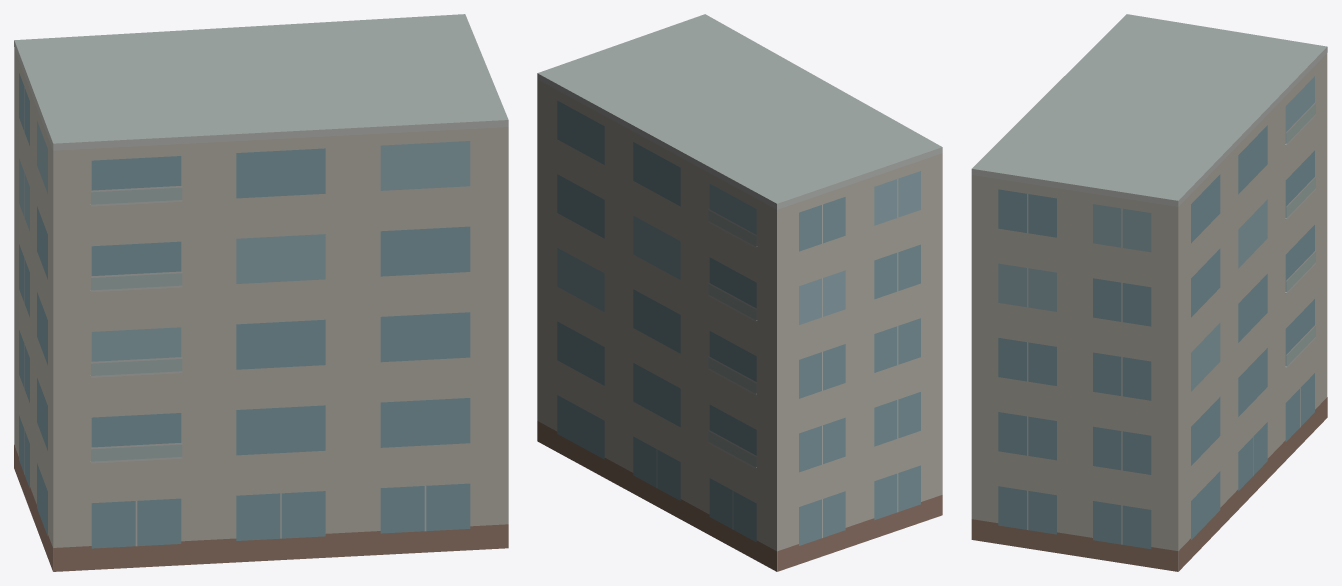
The model's file is survey-upis-32979807.glb.
3 renders of one model, left to right at view 1: azimuth 30°, elevation 25°; view 2: azimuth 150°, elevation 25°; view 3: azimuth 270°, elevation 25°, orthographic. The views are drawn at different scales.
Parts seen in each view (by area): view 1: survey-upis-32979807.tmp; view 2: survey-upis-32979807.tmp; view 3: survey-upis-32979807.tmp.
Boxes of the visible parts, bbox=[...] form: survey-upis-32979807.tmp: bbox=[14, 14, 508, 571]; survey-upis-32979807.tmp: bbox=[537, 14, 942, 571]; survey-upis-32979807.tmp: bbox=[971, 14, 1327, 571].
Bounding box in the file's own units: 16.21 × 15 × 13.05.
